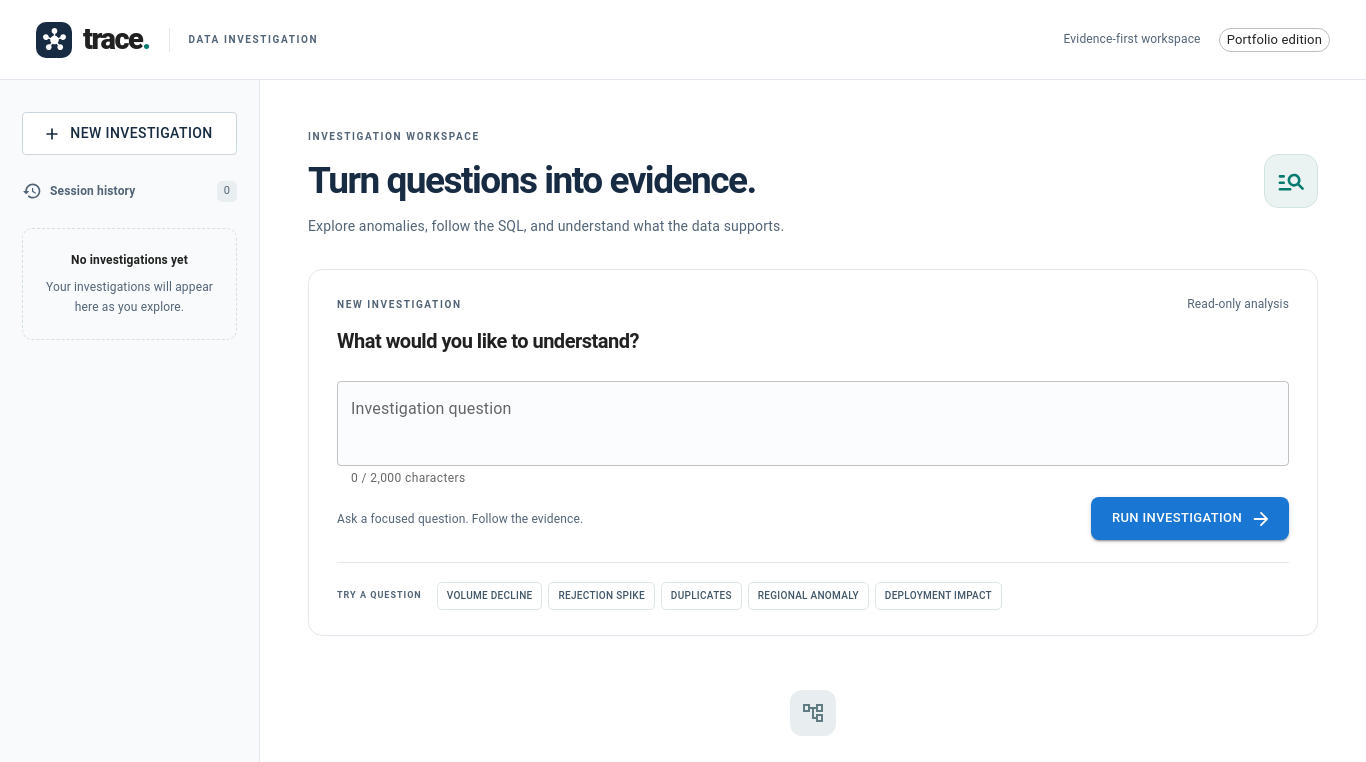
Test: shows honest loading and supports stopping the wait
Step 1. Click the button "Volume decline" → click(490, 596), box left=437, top=582, right=542, bottom=610
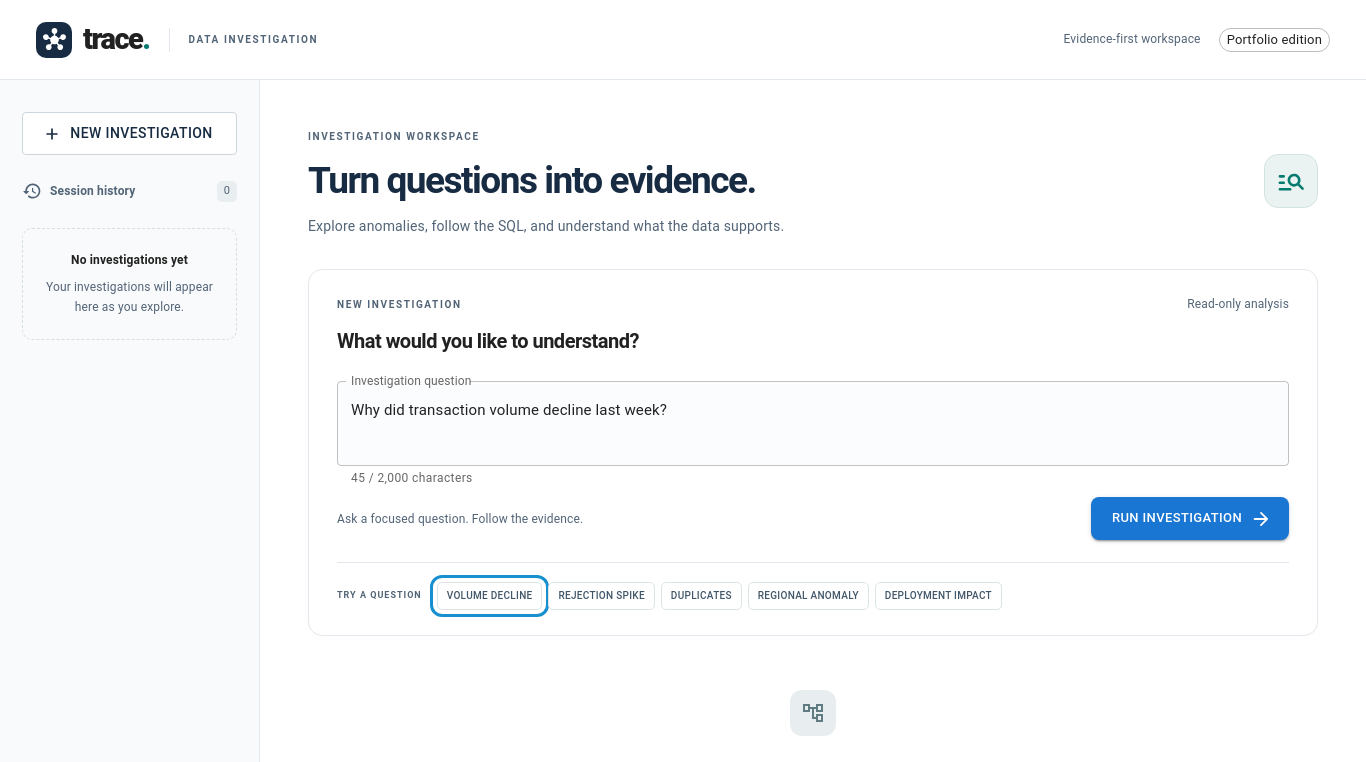
Step 2. Click the button "Run investigation" → click(1190, 519), box left=1091, top=497, right=1289, bottom=540
(page scrolled)
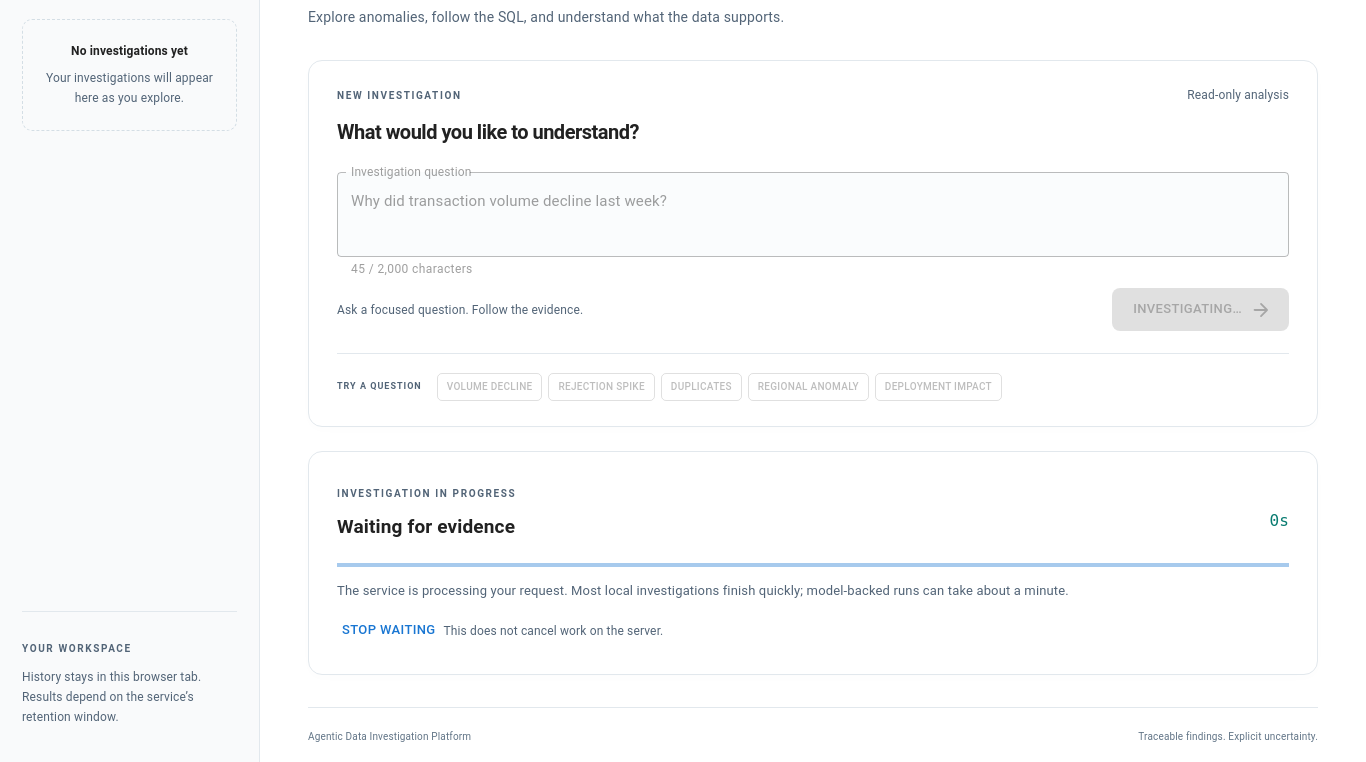
Expected: the message reads "Waiting for evidence", left=337, top=514, right=515, bottom=538
Expected: the button "Investigating…" is disabled, left=1112, top=288, right=1289, bottom=331
Step 3. Click the button "Stop waiting" → click(389, 630), box left=337, top=615, right=440, bottom=646
(page scrolled)
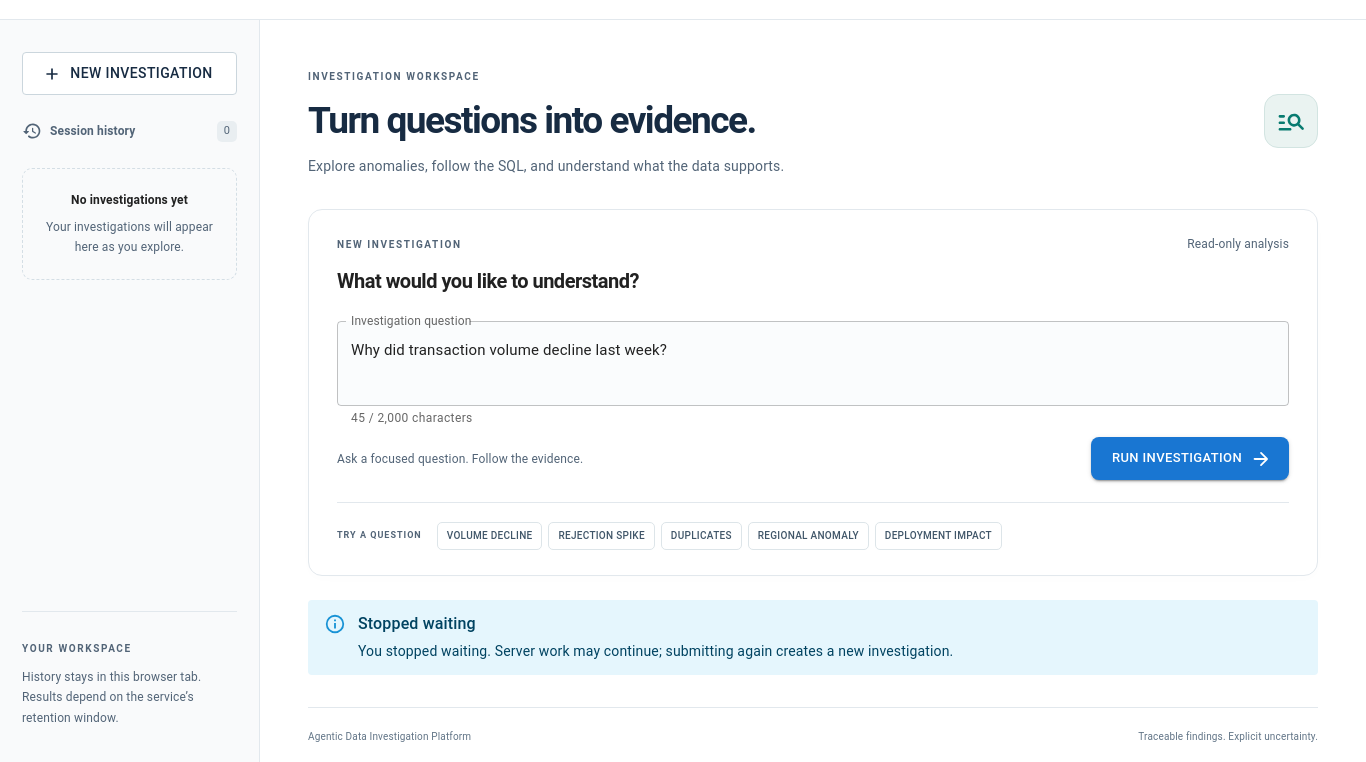
Expected: the message shows "Stopped waiting", left=358, top=614, right=476, bottom=632
